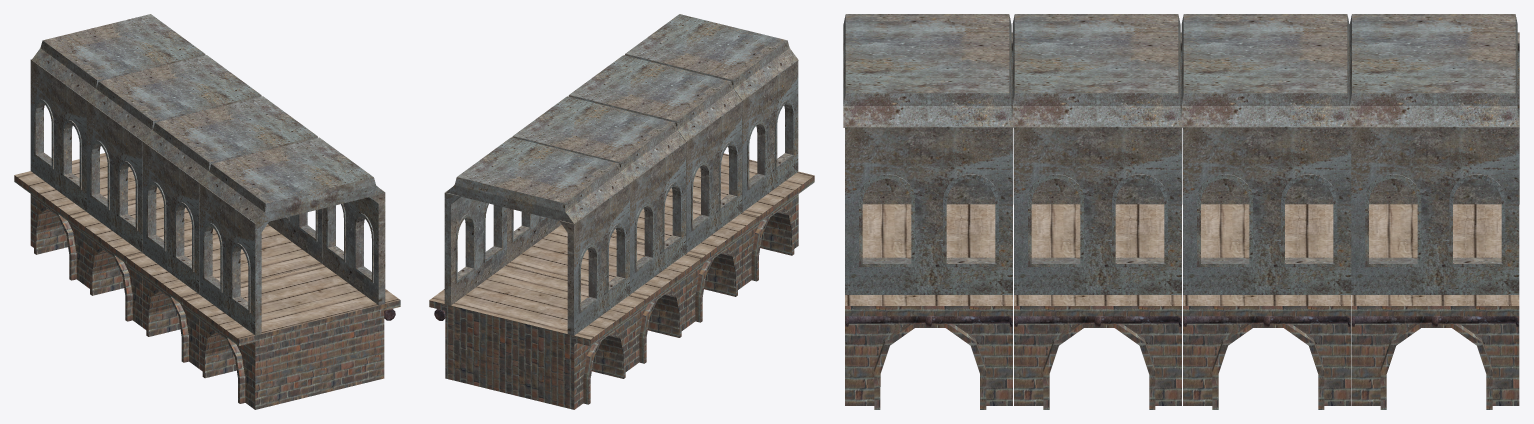
File: PonteFinal.fbx
3 renders of one model, left to right at view 1: azimuth 30°, elevation 25°; view 2: azimuth 150°, elevation 25°; view 3: azimuth 270°, elevation 25°, orthographic. The views are drawn at different scales.
Visible parts, largest first — view 1: BasePonte, Teto, Teto.002, Teto.001, Teto.003, BasePonte.001, Wall, Wall.003, Wall.007, Wall.004, Wall.001, BasePonte.002 (+2 smaller); view 2: BasePonte.003, Teto.003, Teto.001, Teto, Teto.002, Wall.007, BasePonte.002, Wall, Wall.004, Wall.003, Wall.006, BasePonte.001 (+2 smaller); view 3: Wall.006, Wall.005, Wall.001, Wall.002, Teto, Teto.002, Teto.001, Teto.003, BasePonte.003, BasePonte.001, BasePonte, BasePonte.002 (+8 smaller).
Part boxes in pixels (left/top/right/bottom): BasePonte: left=183, top=264, right=400, bottom=409; Teto: left=200, top=137, right=384, bottom=224; Teto.002: left=88, top=55, right=261, bottom=141; Teto.001: left=144, top=96, right=317, bottom=182; Teto.003: left=32, top=14, right=205, bottom=100; BasePonte.001: left=126, top=224, right=322, bottom=368; Wall: left=199, top=183, right=268, bottom=335; Wall.003: left=143, top=141, right=199, bottom=293; Wall.007: left=30, top=59, right=86, bottom=211; Wall.004: left=86, top=100, right=142, bottom=252; Wall.001: left=322, top=188, right=385, bottom=305; BasePonte.002: left=70, top=194, right=217, bottom=327; BasePonte.003: left=429, top=264, right=646, bottom=409; Teto.003: left=446, top=137, right=629, bottom=223; Teto.001: left=568, top=55, right=741, bottom=141; Teto: left=624, top=14, right=798, bottom=100; Teto.002: left=512, top=96, right=685, bottom=182; Wall.007: left=559, top=183, right=629, bottom=335; BasePonte.002: left=507, top=224, right=702, bottom=368; Wall: left=742, top=60, right=798, bottom=212; Wall.004: left=630, top=142, right=685, bottom=294; Wall.003: left=686, top=101, right=741, bottom=253; Wall.006: left=444, top=188, right=506, bottom=305; BasePonte.001: left=611, top=194, right=758, bottom=327; Wall.006: left=1351, top=116, right=1519, bottom=294; Wall.005: left=1183, top=126, right=1351, bottom=294; Wall.001: left=845, top=116, right=1012, bottom=294; Wall.002: left=1014, top=116, right=1181, bottom=294; Teto: left=843, top=14, right=1011, bottom=127; Teto.002: left=1181, top=14, right=1349, bottom=127; Teto.001: left=1012, top=14, right=1180, bottom=127; Teto.003: left=1349, top=14, right=1517, bottom=126; BasePonte.003: left=1351, top=204, right=1519, bottom=409; BasePonte.001: left=1014, top=204, right=1181, bottom=409; BasePonte: left=845, top=204, right=1012, bottom=409; BasePonte.002: left=1183, top=204, right=1350, bottom=409.
Bounding box in the file's own units: 500 × 601 × 1207.
